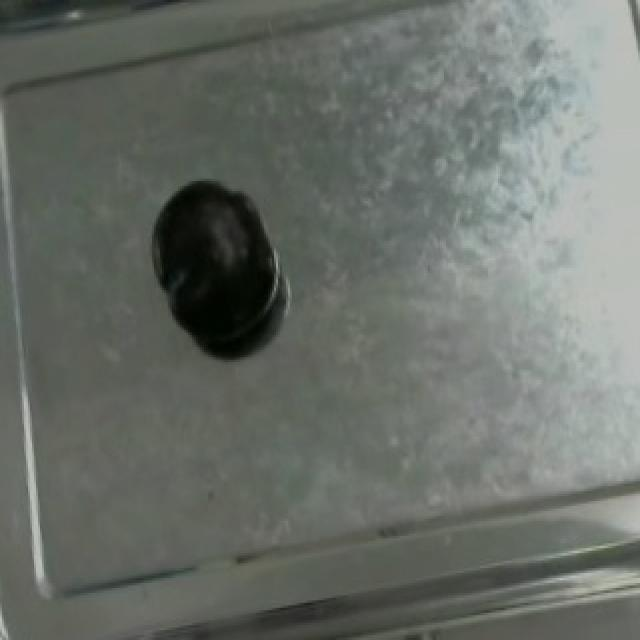Fruit: (144, 169, 286, 357)
